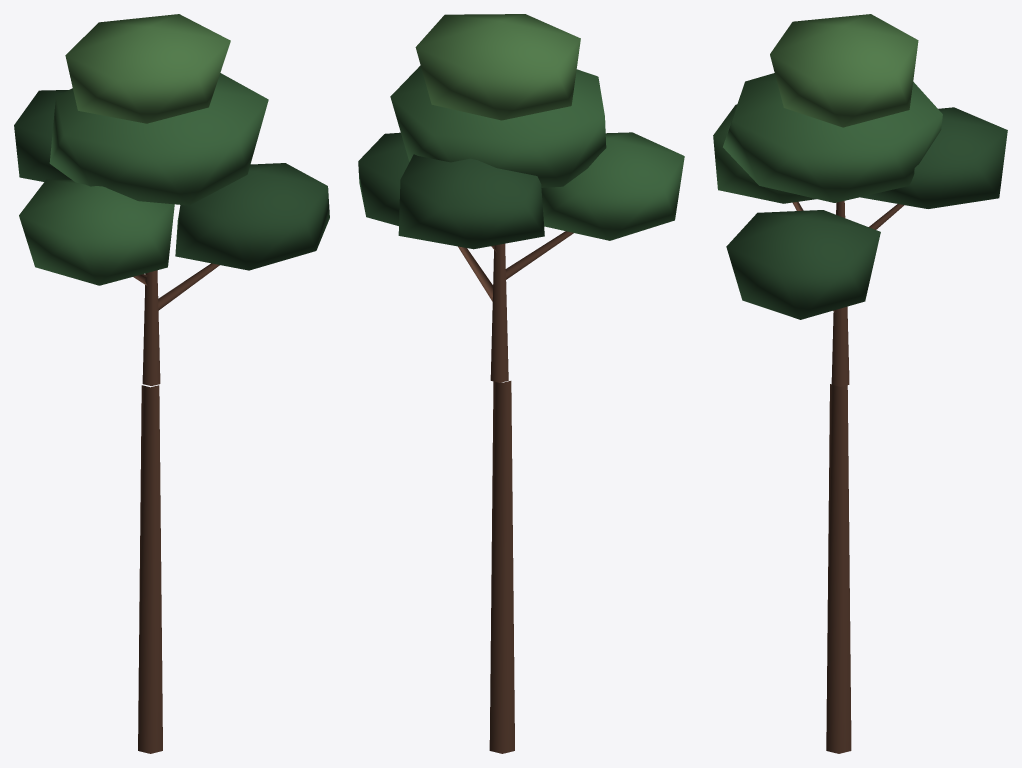
Rendered from pine_dalat_3leaf_mature_lod0.glb.
3 views of the same model, side by side, from view 1: azimuth 30°, elevation 25°; view 2: azimuth 150°, elevation 25°; view 3: azimuth 270°, elevation 25° (orthographic).
Parts seen in each view (by area): view 1: crown_core, crown_top_cap, crown_wing_w, crown_wing_e, trunk_lower, crown_wing_n, trunk_upper, limb_0; view 2: crown_top_cap, crown_core, crown_wing_n, crown_wing_w, trunk_lower, crown_wing_e, trunk_upper, limb_1; view 3: crown_core, crown_top_cap, crown_wing_e, trunk_lower, crown_wing_n, crown_wing_w, trunk_upper.
Part boxes in pixels (<box>): crown_core: <box>49,73,268,205</box>; crown_top_cap: <box>65,14,230,123</box>; crown_wing_w: <box>19,179,174,285</box>; crown_wing_e: <box>175,163,329,270</box>; trunk_lower: <box>138,385,162,753</box>; crown_wing_n: <box>14,90,71,181</box>; trunk_upper: <box>142,270,160,385</box>; limb_0: <box>158,263,219,310</box>; crown_top_cap: <box>415,14,580,120</box>; crown_core: <box>390,65,606,187</box>; crown_wing_n: <box>398,154,544,249</box>; crown_wing_w: <box>541,132,684,240</box>; trunk_lower: <box>489,381,514,753</box>; crown_wing_e: <box>358,132,409,225</box>; trunk_upper: <box>490,243,508,382</box>; limb_1: <box>506,231,573,279</box>; crown_core: <box>723,73,942,202</box>; crown_top_cap: <box>770,14,918,127</box>; crown_wing_e: <box>726,210,880,319</box>; trunk_lower: <box>826,384,851,753</box>; crown_wing_n: <box>860,107,1007,208</box>; crown_wing_w: <box>713,104,816,203</box>; trunk_upper: <box>831,201,849,386</box>.
Bounding box in the file's own units: 8.33 × 18.73 × 6.93.
